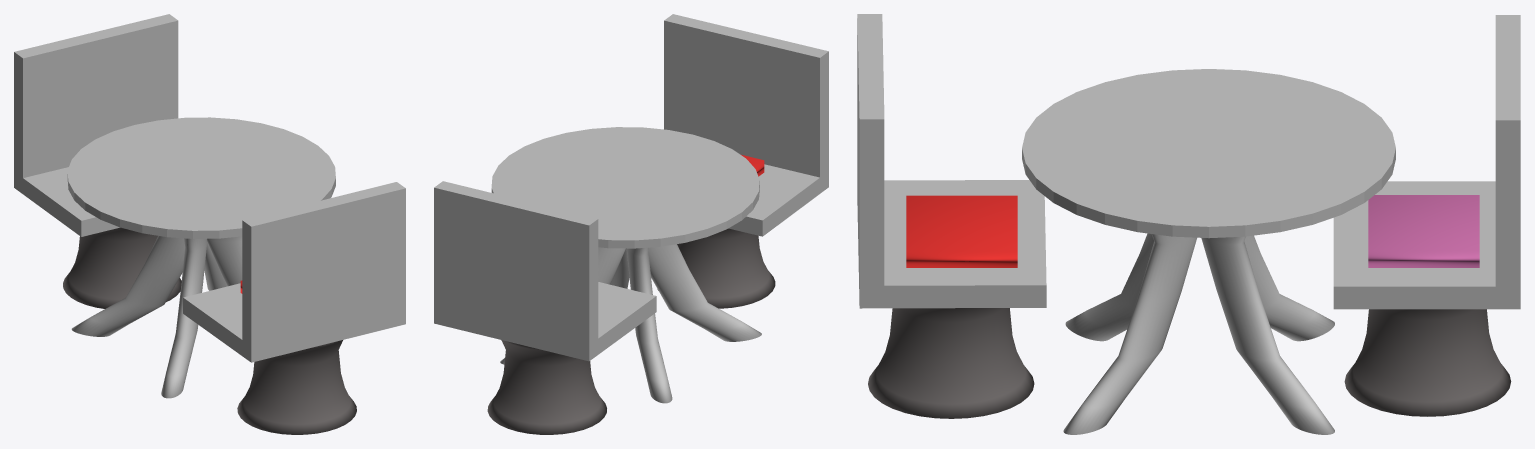
File: GhostDining.fbx
3 renders of one model, left to right at view 1: azimuth 30°, elevation 25°; view 2: azimuth 150°, elevation 25°; view 3: azimuth 270°, elevation 25°, orthographic. The views are drawn at different scales.
Parts seen in each view (by area): view 1: Cylinder.004, Cube.002, Cube.001, Cylinder.006, Cylinder.005, Cube.003, Cylinder.002, Cylinder.003, Cube, Cylinder, Cylinder.001; view 2: Cylinder.004, Cube.001, Cube.002, Cylinder.005, Cylinder.006, Cube, Cylinder.003, Cube.003, Cylinder.002, Cylinder.001, Cylinder; view 3: Cylinder.004, Cylinder.006, Cylinder.005, Cube.003, Cube, Cube.004, Cylinder, Cube.005, Cylinder.001, Cube.002, Cube.001, Cylinder.002 (+1 smaller).
Part boxes in pixels (bbox=[...]): Cylinder.004: bbox=[67, 117, 335, 238]; Cube.002: bbox=[242, 182, 405, 348]; Cube.001: bbox=[14, 14, 178, 177]; Cylinder.006: bbox=[237, 340, 356, 434]; Cylinder.005: bbox=[63, 227, 181, 308]; Cube.003: bbox=[183, 283, 405, 362]; Cylinder.002: bbox=[71, 236, 184, 336]; Cylinder.003: bbox=[161, 238, 207, 398]; Cube: bbox=[14, 167, 119, 236]; Cylinder: bbox=[207, 236, 242, 286]; Cylinder.001: bbox=[204, 242, 227, 290]; Cylinder.004: bbox=[491, 127, 759, 248]; Cube.001: bbox=[434, 181, 598, 347]; Cube.002: bbox=[664, 14, 828, 177]; Cylinder.005: bbox=[487, 340, 606, 434]; Cylinder.006: bbox=[657, 228, 775, 308]; Cube: bbox=[434, 282, 656, 361]; Cylinder.003: bbox=[648, 244, 761, 341]; Cube.003: bbox=[728, 164, 828, 236]; Cylinder.002: bbox=[626, 247, 672, 403]; Cylinder.001: bbox=[500, 247, 625, 364]; Cylinder: bbox=[610, 248, 629, 288]; Cylinder.004: bbox=[1022, 69, 1395, 238]; Cylinder.006: bbox=[868, 308, 1034, 418]; Cylinder.005: bbox=[1344, 309, 1511, 416]; Cube.003: bbox=[857, 180, 1046, 308]; Cube: bbox=[1333, 181, 1520, 309]; Cube.004: bbox=[906, 195, 1017, 267]; Cylinder: bbox=[1063, 234, 1196, 434]; Cube.005: bbox=[1368, 195, 1479, 267]; Cylinder.001: bbox=[1201, 236, 1334, 434]; Cube.002: bbox=[857, 14, 884, 288]; Cube.001: bbox=[1495, 15, 1520, 289]; Cylinder.002: bbox=[1244, 235, 1334, 341].
Bounding box in the file's own units: 600 × 559 × 1064.
